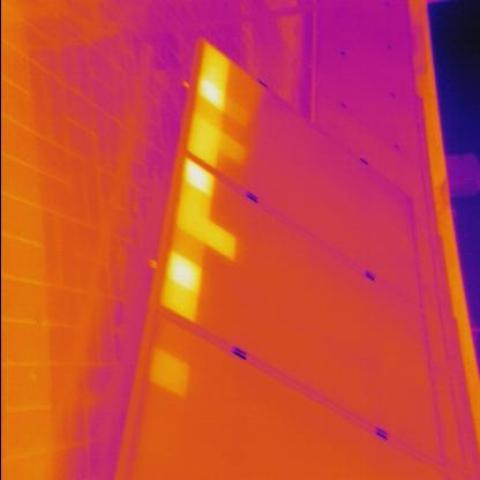fault: (169, 256, 201, 286), (187, 158, 212, 194), (200, 79, 224, 108)
